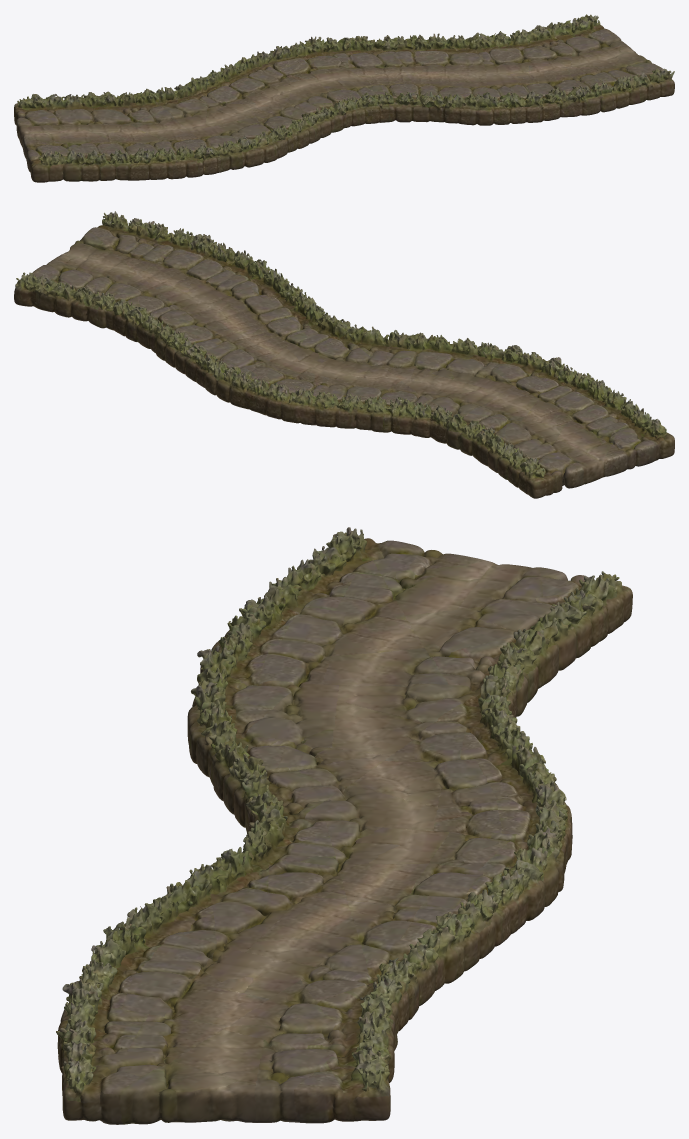
Rendered from Meshy_AI_road_s_curve_0823031837_image-to-3d-texture.glb.
3 views of the same model, one above another, from view 1: azimuth 30°, elevation 25°; view 2: azimuth 150°, elevation 25°; view 3: azimuth 270°, elevation 25° (orthographic). The views are drawn at different scales.
Parts seen in each view (by area): view 1: mesh_node; view 2: mesh_node; view 3: mesh_node.
Part boxes in pixels (<box>): mesh_node: <box>14,14,674,182</box>; mesh_node: <box>14,211,674,498</box>; mesh_node: <box>56,527,632,1124</box>.
Bounding box in the file's own units: 1.9 × 0.0979 × 0.8293.
1 material, 1 textured.
